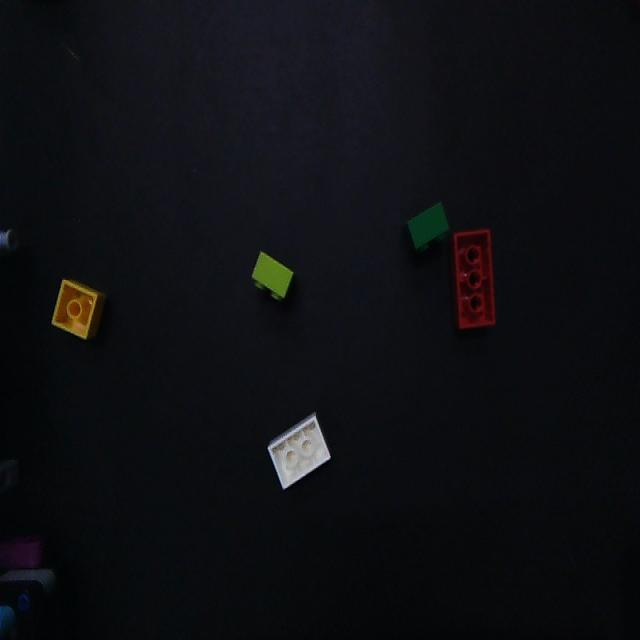lego_brick: (267, 413, 332, 490), (453, 232, 494, 328), (53, 280, 106, 340), (251, 251, 293, 300), (407, 203, 449, 251)
